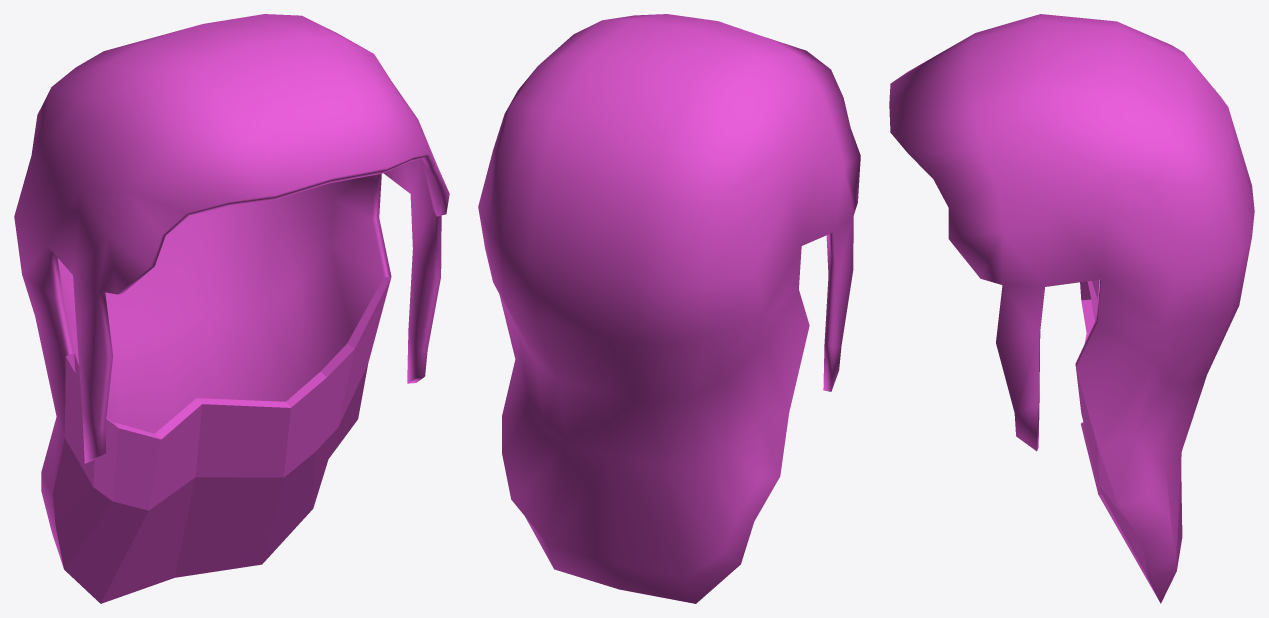
Rendered from character hair 04.fbx.
3 views of the same model, side by side, from view 1: azimuth 30°, elevation 25°; view 2: azimuth 150°, elevation 25°; view 3: azimuth 270°, elevation 25° (orthographic). The views are drawn at different scales.
Parts seen in each view (by area): view 1: hair04; view 2: hair04; view 3: hair04.
Part boxes in pixels (bbox=[...]): hair04: bbox=[14, 14, 449, 603]; hair04: bbox=[478, 14, 860, 603]; hair04: bbox=[889, 14, 1254, 603].
Size of the model in its own units: 0.3842 by 0.623 by 0.3918.
